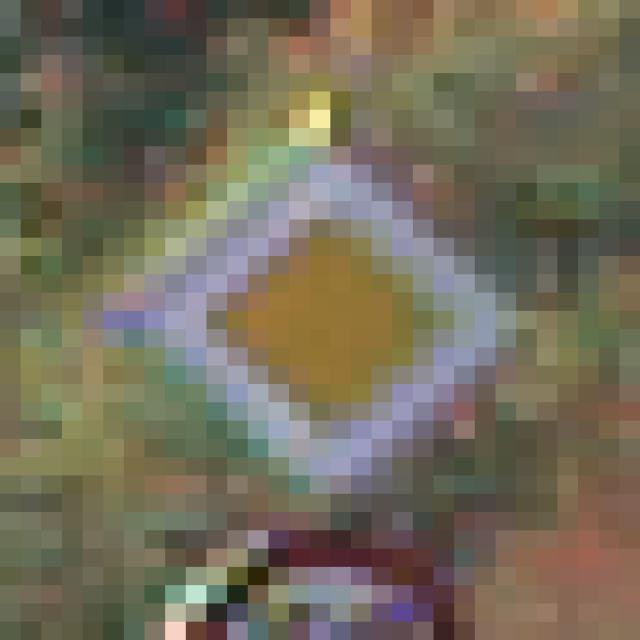Main Road: (104, 93, 538, 550)
